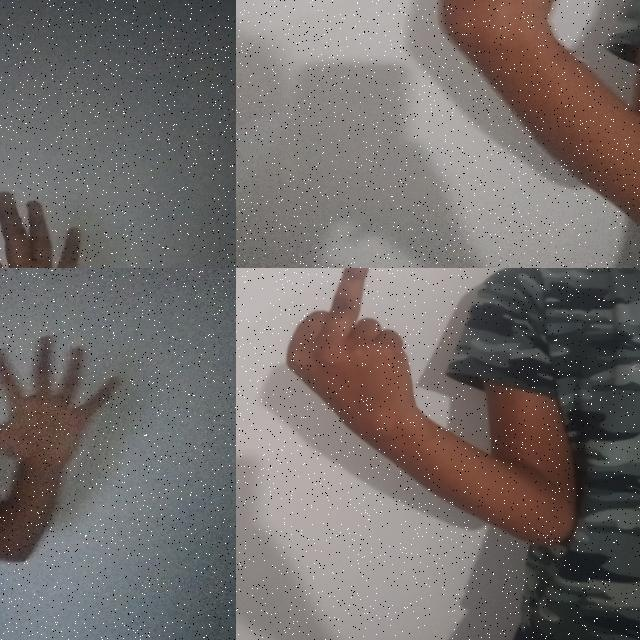Middle Finger: (278, 268, 451, 445)
Moutza: (0, 323, 135, 509), (0, 184, 86, 268)
Reversed Victory: (427, 0, 625, 83)
